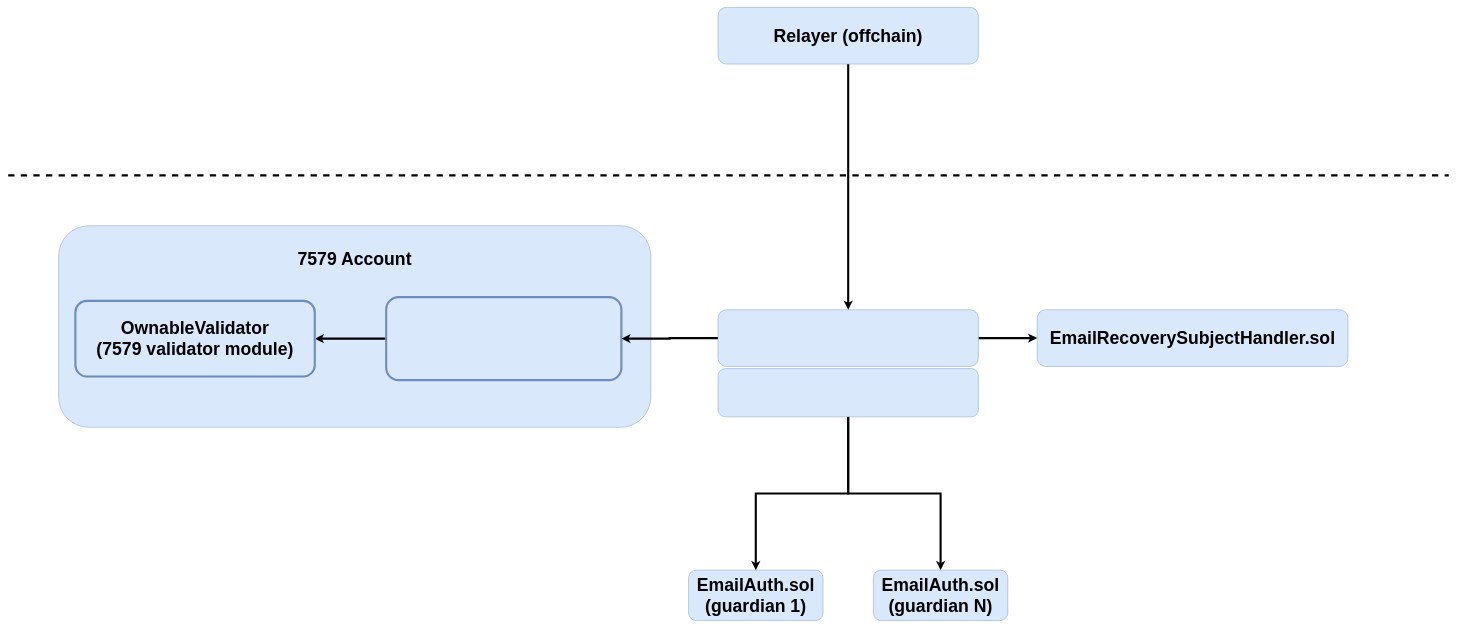
Some shapes in this 1457 by 628 pixel diagram are drawn without their labels. The centre of each missing label's shape, as x and y in pixels:
"EmailAccountRecovery.sol (abstract contract)" belongs at pixel 848 392.
"EmailRecoveryManager.sol" belongs at pixel 848 337.
"EmailRecoveryModule.sol (7579 executor module)" belongs at pixel 503 338.
